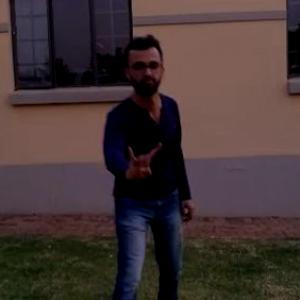takeoff-hand: (119, 135, 167, 188)
